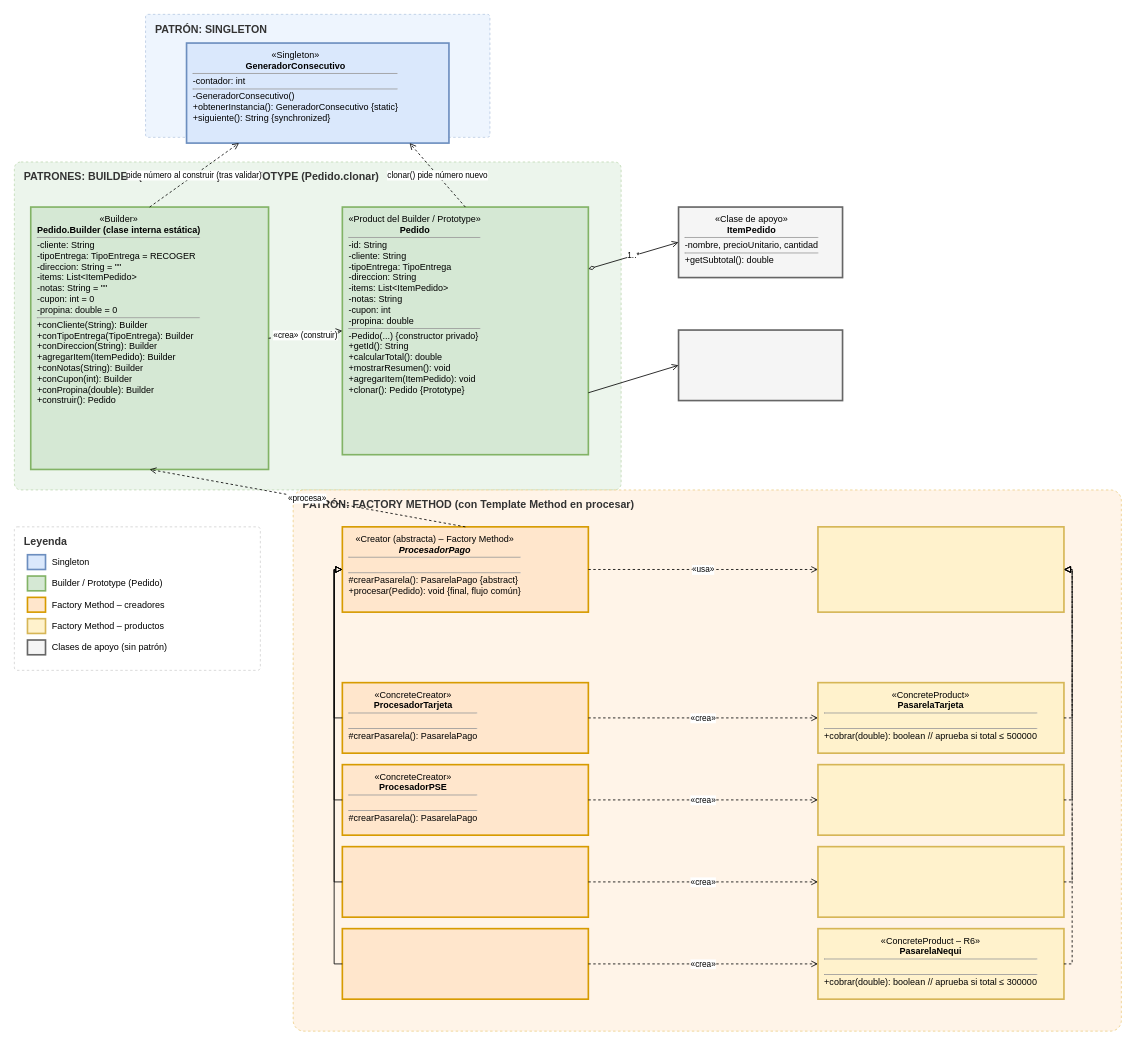
Image size: 1136x1046. Some labels were removed from this diagram. The shapes that lost their labels are listed below. From the top down, each one's centre as x and y in pixels, then its label:
the point at 760,365: «enumeration» TipoEntrega RECOGER DOMICILIO
the point at 940,569: «Product (interfaz)» PasarelaPago +nombre(): String +cobrar(double): boolean
the point at 940,799: «ConcreteProduct» PasarelaPSE +cobrar(double): boolean // aprueba siempre
the point at 465,881: «ConcreteCreator» ProcesadorEfectivo #crearPasarela(): PasarelaPago
the point at 940,881: «ConcreteProduct» PasarelaEfectivo +cobrar(double): boolean // aprueba siempre
the point at 465,963: «ConcreteCreator – R6» ProcesadorNequi #crearPasarela(): PasarelaPago
